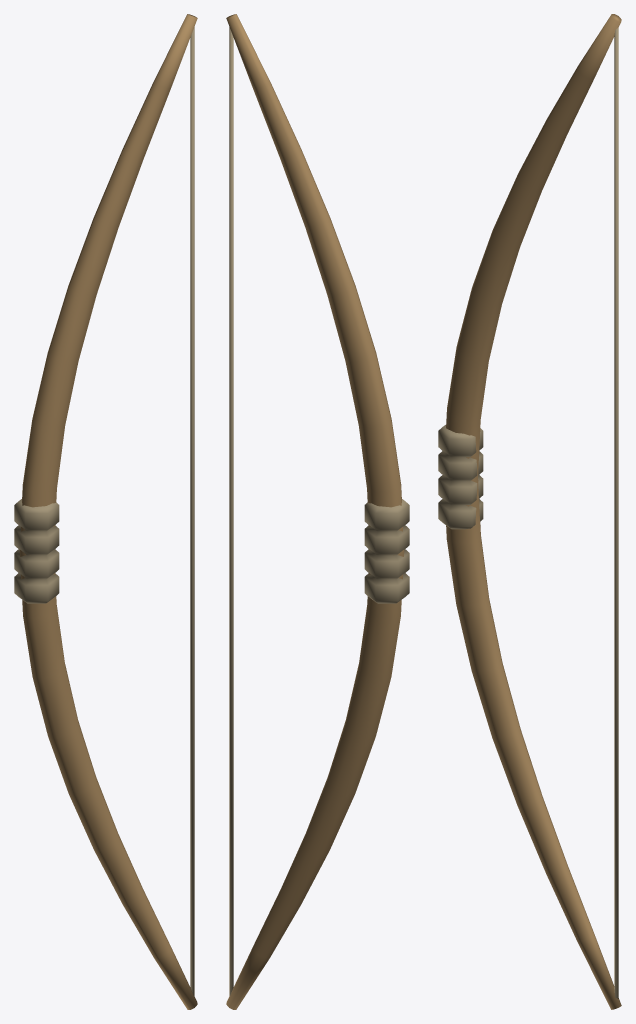
File: primitive_self_bow_lod0.glb
3 renders of one model, left to right at view 1: azimuth 30°, elevation 25°; view 2: azimuth 150°, elevation 25°; view 3: azimuth 330°, elevation 25°, orthographic.
Parts seen in each view (by area): view 1: primitive_self_bow_lod0; view 2: primitive_self_bow_lod0; view 3: primitive_self_bow_lod0.
Boxes of the visible parts, x1,y1,x2,y2 form: primitive_self_bow_lod0: (14,14,197,1009); primitive_self_bow_lod0: (226,14,409,1009); primitive_self_bow_lod0: (438,14,621,1009).
Size of the model in its own units: 0.291 by 1.56 by 0.064.
